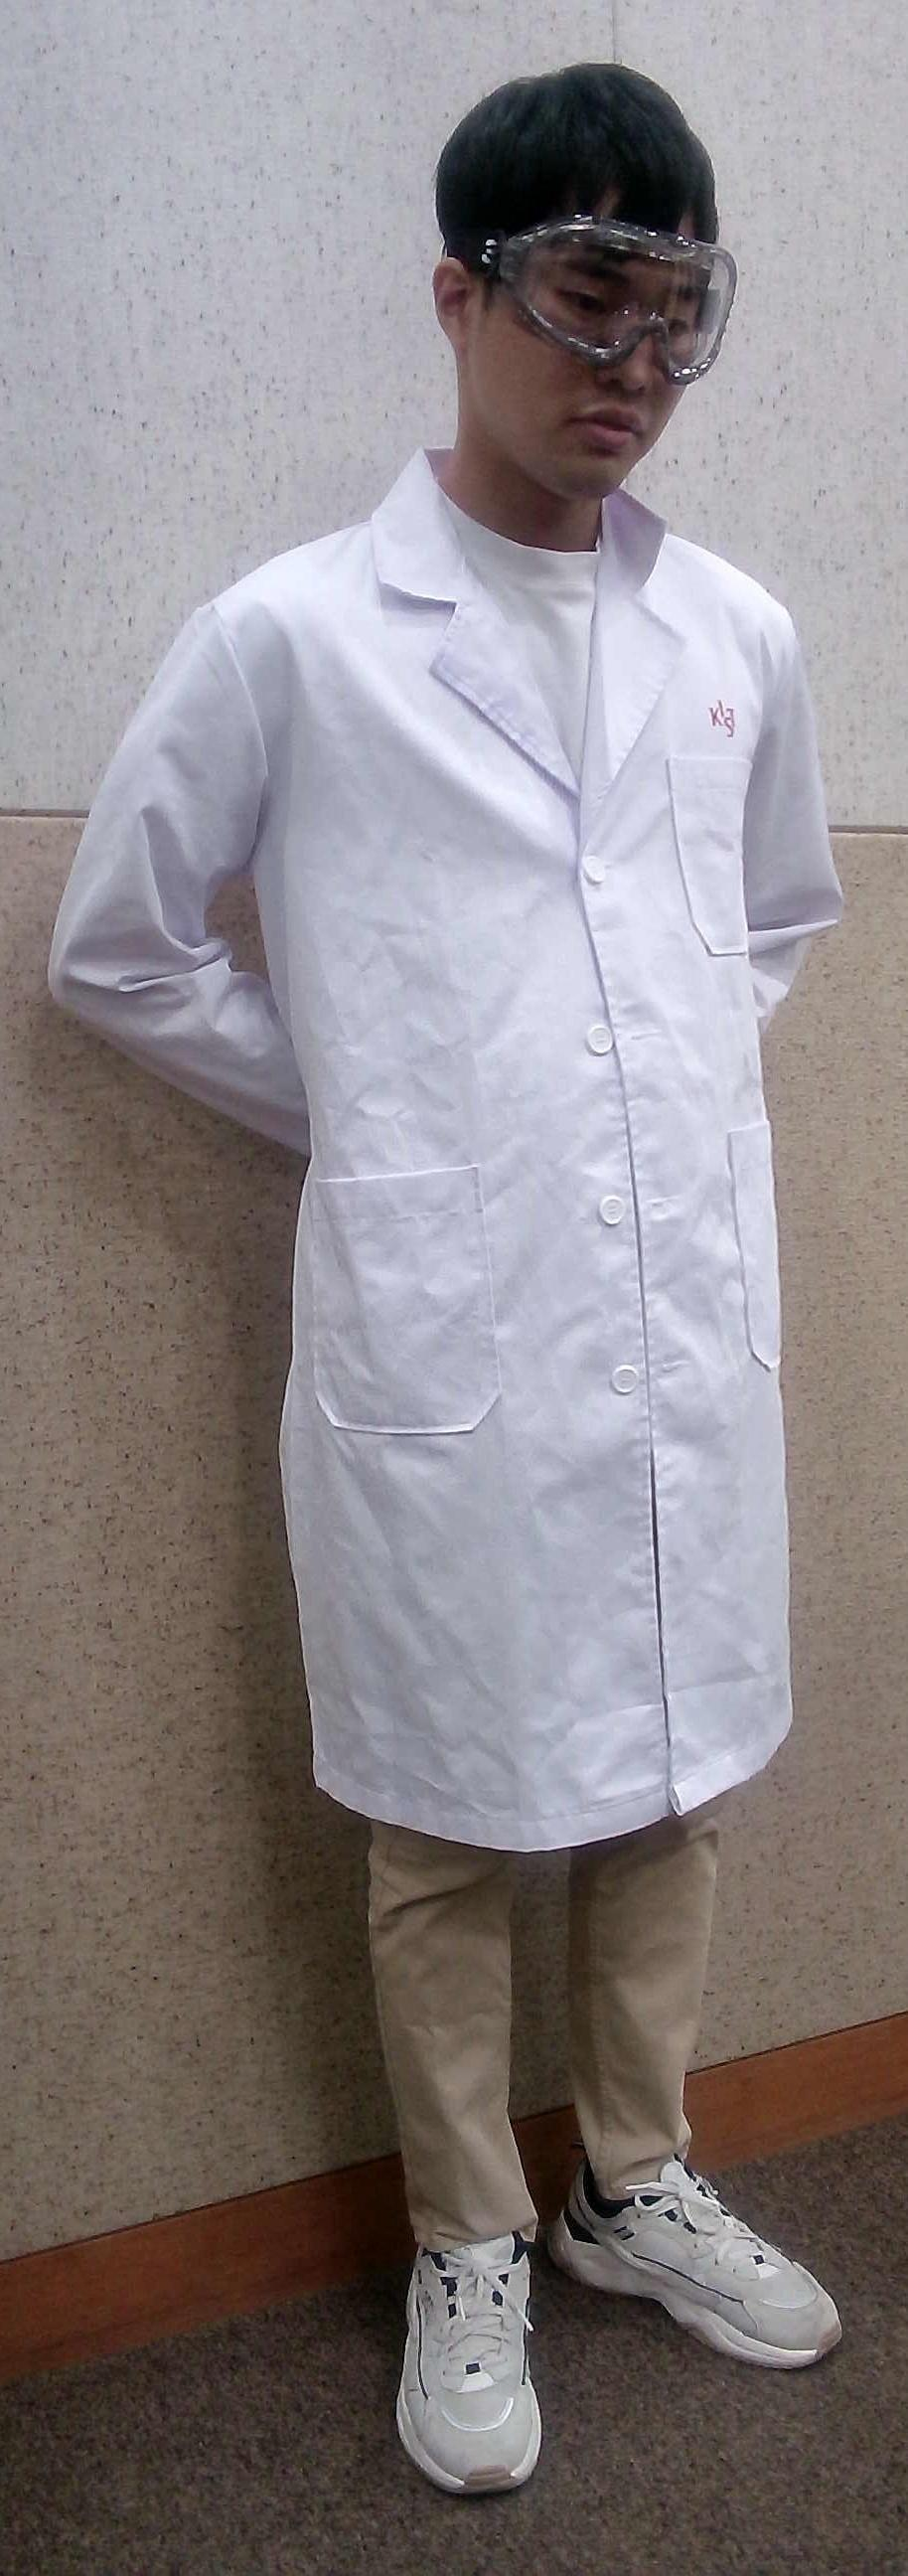lab_coat: (264, 522, 785, 1820)
